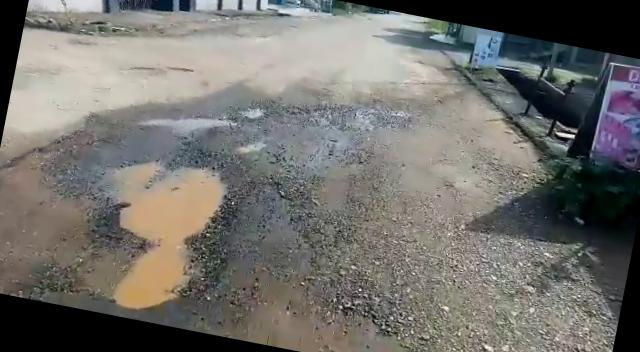pothole: (78, 145, 235, 324), (234, 102, 267, 123)
